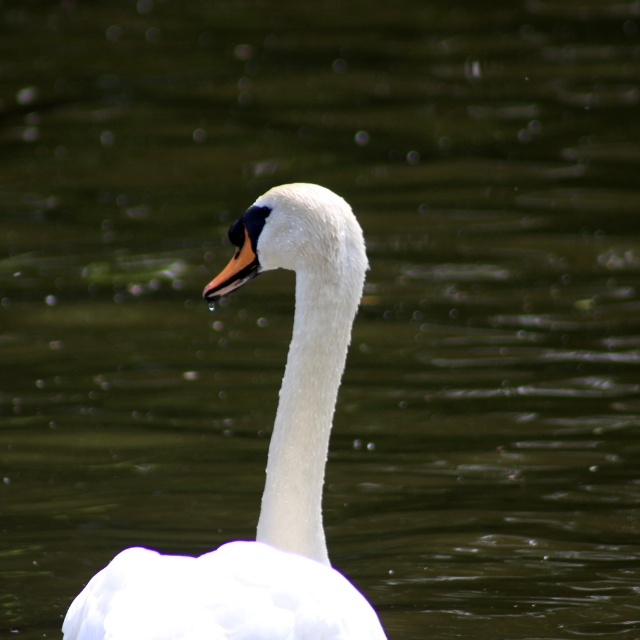Duck: (79, 162, 430, 640)
